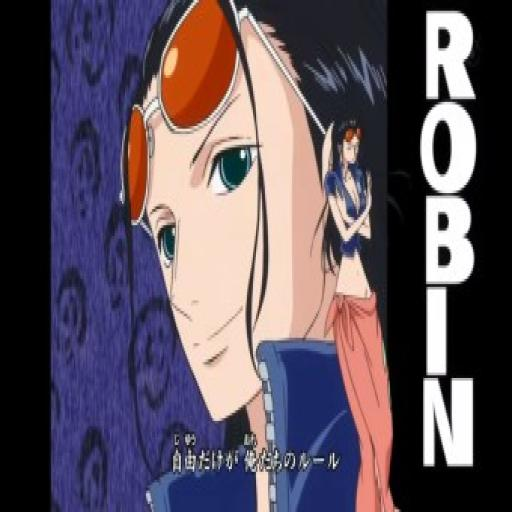NicoRobin: (132, 0, 336, 398), (327, 120, 373, 176)
